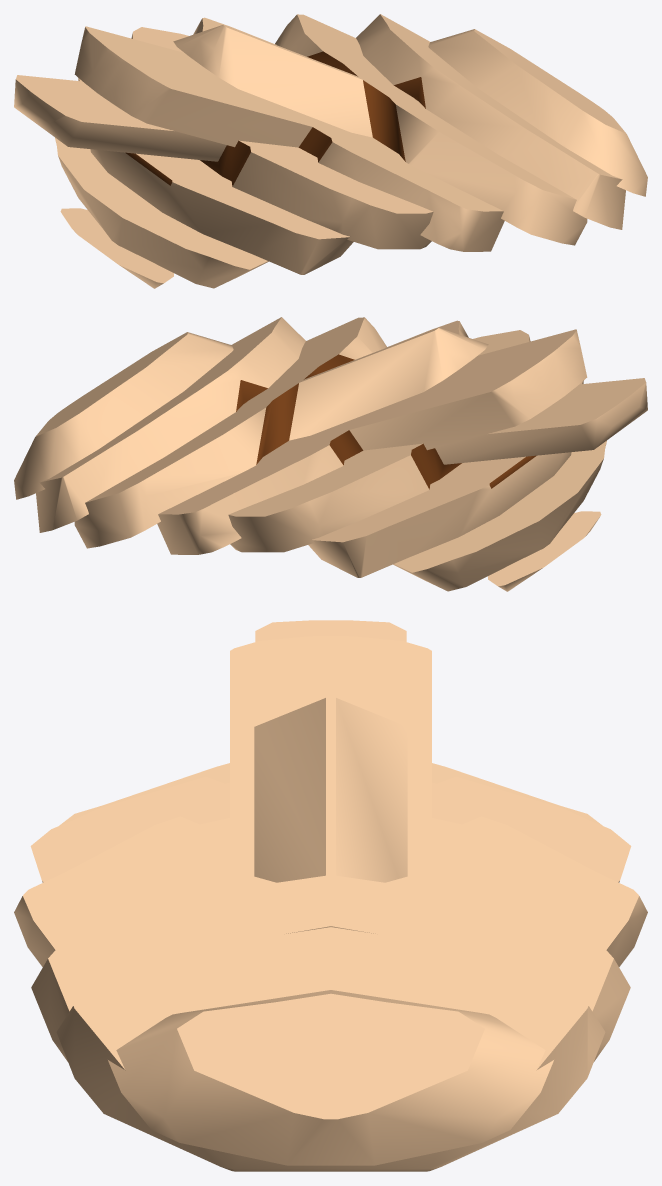
The model's file is MushroomChopped.glb.
3 renders of one model, top to bottom at view 1: azimuth 30°, elevation 25°; view 2: azimuth 150°, elevation 25°; view 3: azimuth 270°, elevation 25°, orthographic. The views are drawn at different scales.
Visible parts, largest first — view 1: Icosphere.001; view 2: Icosphere.001; view 3: Icosphere.001.
Boxes of the visible parts, x1=… form: Icosphere.001: x1=14, y1=14, x2=647, y2=288; Icosphere.001: x1=14, y1=317, x2=647, y2=591; Icosphere.001: x1=14, y1=620, x2=647, y2=1171.
Size of the model in its own units: 0.9537 by 0.3806 by 0.7851.
